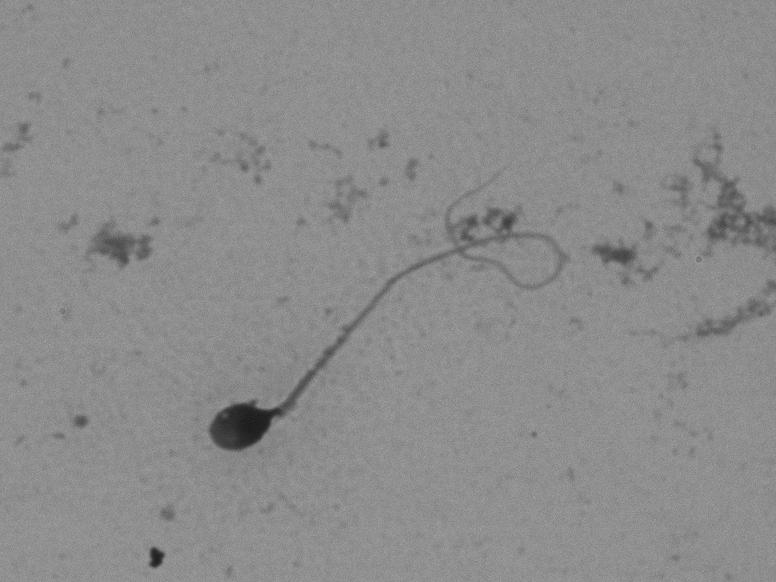Abnormal: (179, 118, 574, 475)
